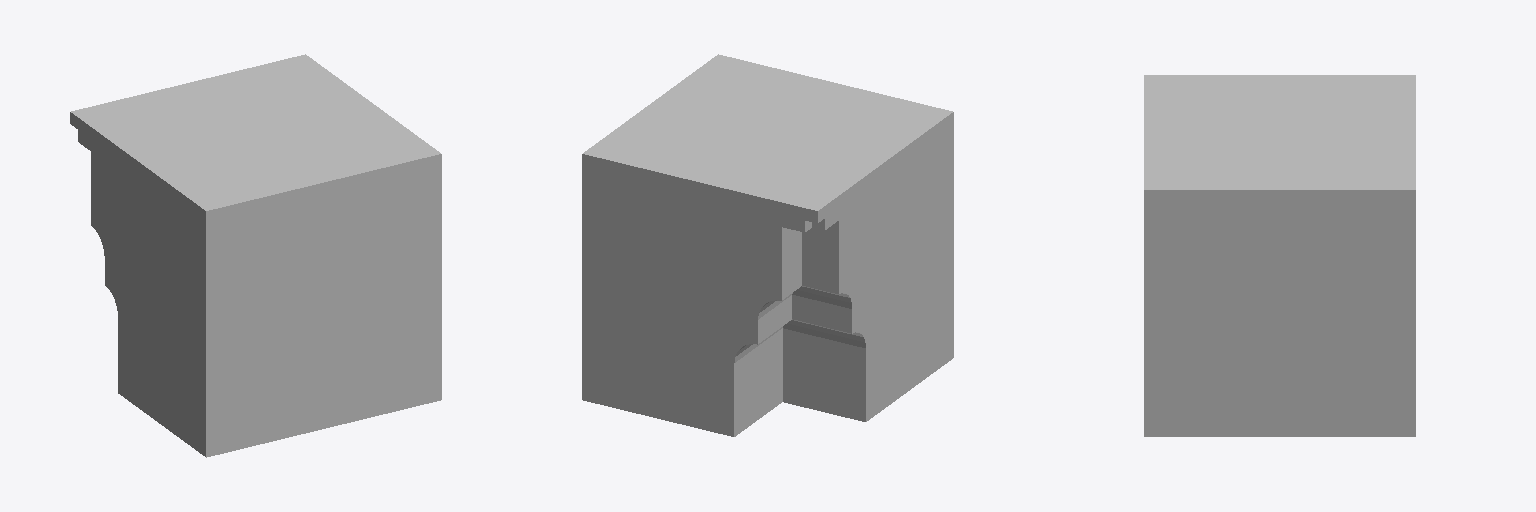
The model's file is haut_angle.obj.
3 views of the same model, side by side, from view 1: azimuth 30°, elevation 25°; view 2: azimuth 150°, elevation 25°; view 3: azimuth 270°, elevation 25° (orthographic).
Parts seen in each view (by area): view 1: SketchUp.001; view 2: SketchUp.001; view 3: SketchUp.001.
Part boxes in pixels (bbox=[...]): SketchUp.001: bbox=[70, 54, 441, 457]; SketchUp.001: bbox=[582, 54, 953, 436]; SketchUp.001: bbox=[1144, 75, 1415, 436].
Size of the model in its own units: 1 by 1 by 1.